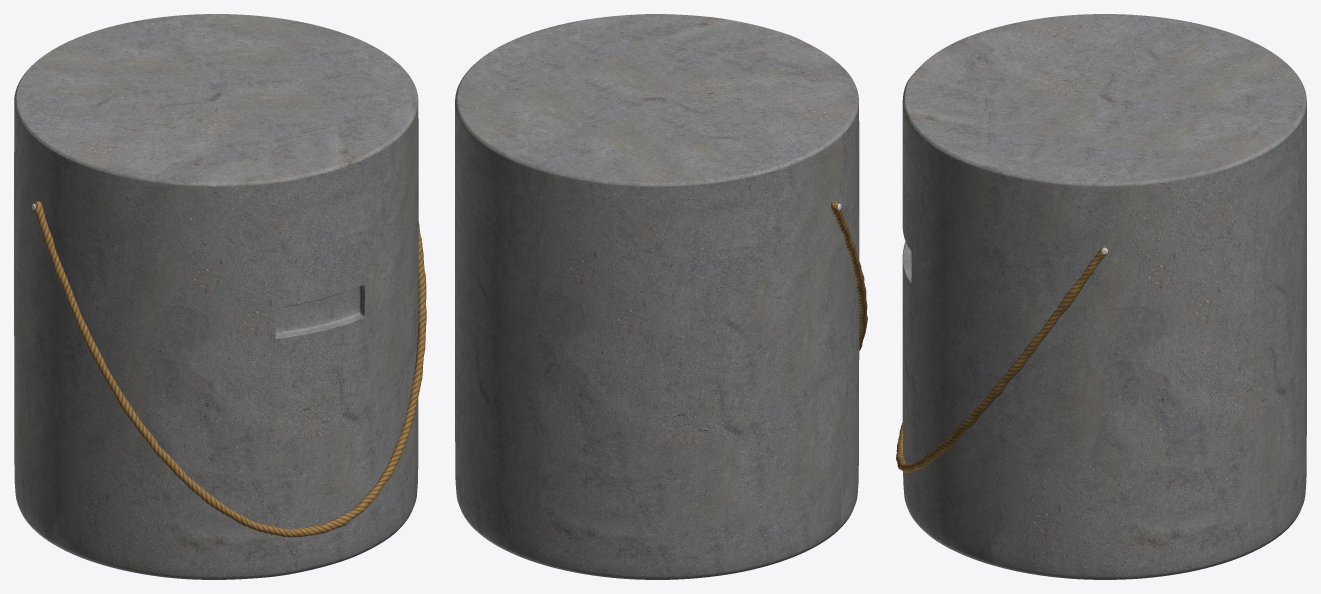
3 views of the same model, side by side, from view 1: azimuth 30°, elevation 25°; view 2: azimuth 150°, elevation 25°; view 3: azimuth 270°, elevation 25° (orthographic).
Parts seen in each view (by area): view 1: Cylinder (×2), Vert.001; view 2: Cylinder, Vert.001; view 3: Cylinder, Vert.001.
Part boxes in pixels (box(x1,y1,x2,y2)): Cylinder (×2): box(14, 14, 418, 579); Vert.001: box(34, 201, 426, 537); Cylinder: box(455, 14, 859, 579); Vert.001: box(830, 201, 867, 350); Cylinder: box(902, 14, 1306, 579); Vert.001: box(896, 246, 1108, 472).
Size of the model in its own units: 0.3845 by 0.4 by 0.3737.
3 materials, 2 textured.
